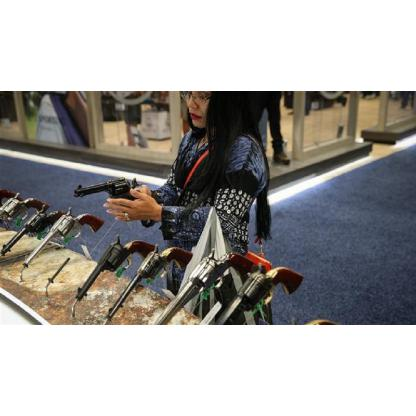gun: (160, 247, 266, 323), (102, 247, 192, 320), (70, 237, 158, 303), (216, 264, 310, 324), (23, 208, 100, 268), (72, 174, 144, 219), (2, 202, 60, 256)
